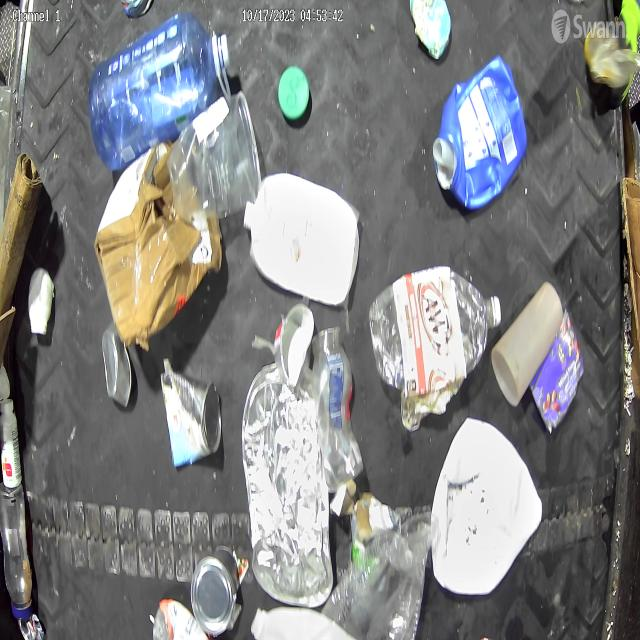can: (160, 371, 222, 468), (192, 550, 240, 635), (411, 0, 453, 63), (101, 324, 132, 408), (17, 613, 45, 640)
milk_jug: (240, 170, 362, 302)
non_white_jug: (434, 54, 530, 212)
plastic_bottle: (371, 268, 502, 398), (311, 325, 364, 493), (0, 480, 34, 620)
